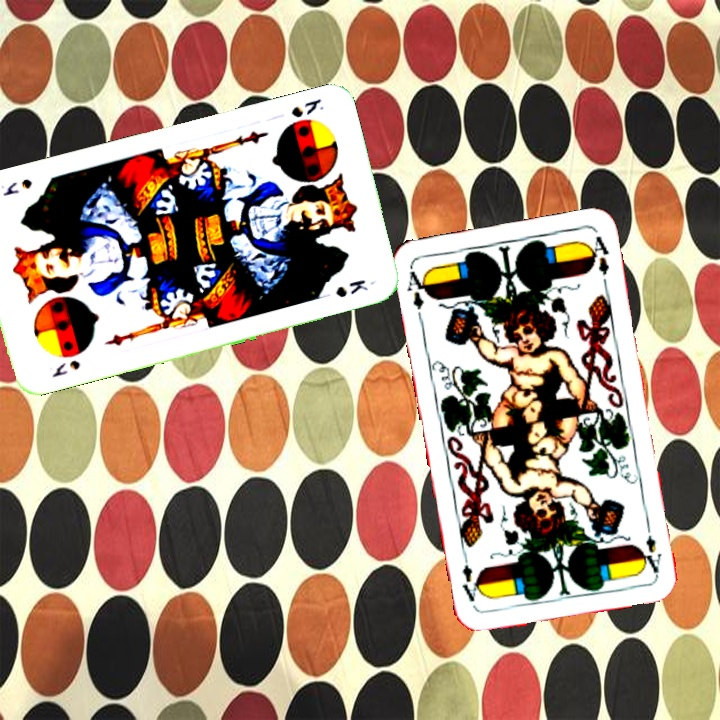EA: (403, 265, 432, 324), (639, 531, 664, 576)
SK: (287, 94, 327, 120), (47, 356, 83, 380)
